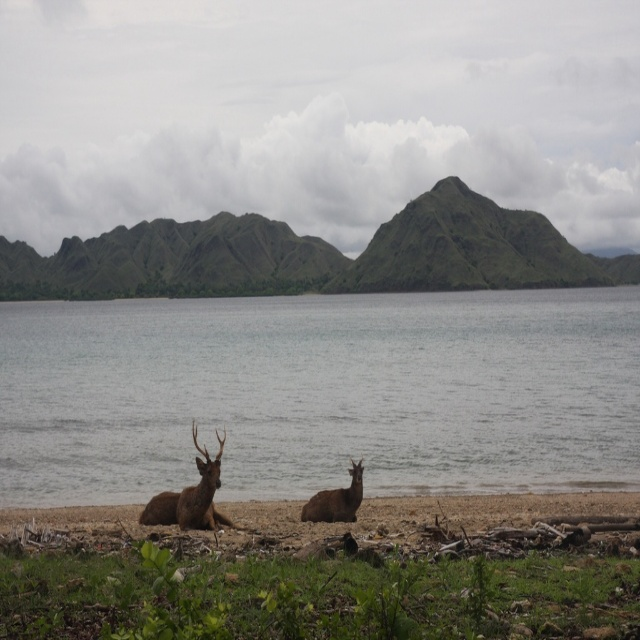Deer: (138, 418, 225, 528), (302, 457, 368, 522)
